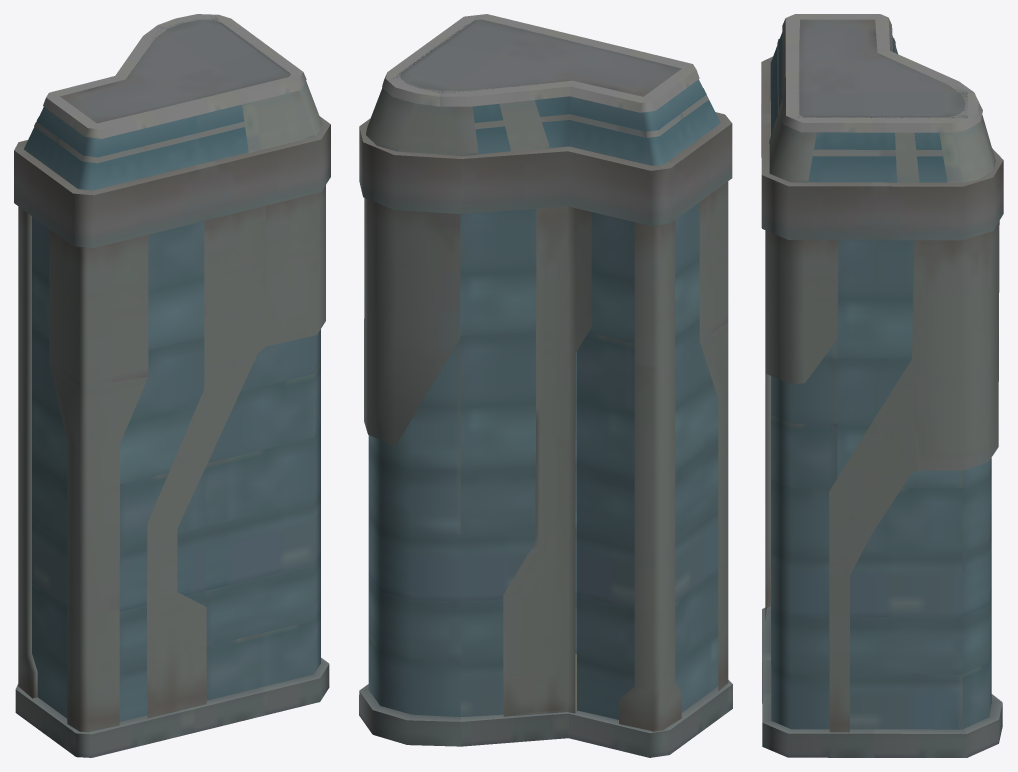
The model's file is pref_sm_city_building01_snow_lv3.fbx.
The picture shows the model from 3 angles, left to right: view 1: azimuth 30°, elevation 25°; view 2: azimuth 150°, elevation 25°; view 3: azimuth 270°, elevation 25°; orthographic projection. The views are drawn at different scales.
Visible parts, largest first — view 1: pref_sm_city_building01_snow_lv3; view 2: pref_sm_city_building01_snow_lv3; view 3: pref_sm_city_building01_snow_lv3.
Boxes of the visible parts, x1,y1,x2,y2 form: pref_sm_city_building01_snow_lv3: (14,14,330,757); pref_sm_city_building01_snow_lv3: (359,14,732,757); pref_sm_city_building01_snow_lv3: (761,14,1003,757).
Bounding box in the file's own units: 24.26 × 53.88 × 18.91.
